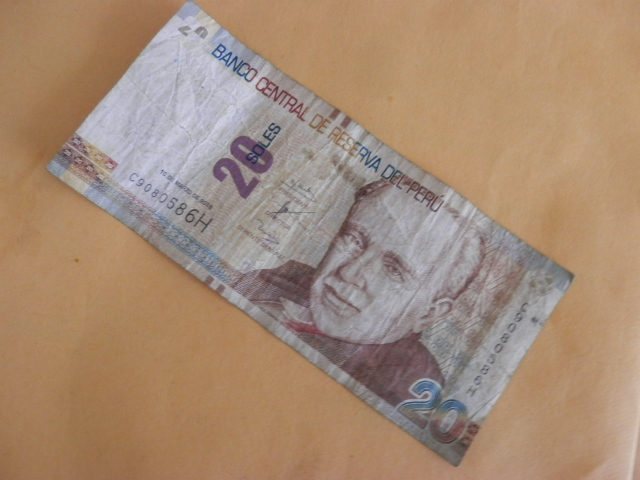B20: (52, 16, 578, 472)
